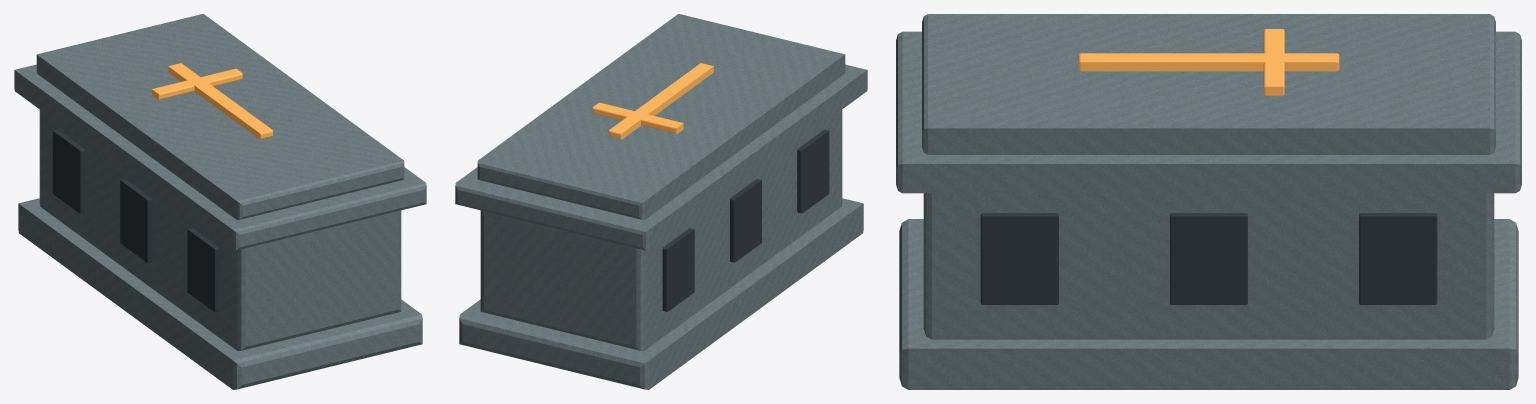
The model's file is hollowwick-halloween-gothic-sarcophagus-a4cfb950__21629.glb.
3 views of the same model, side by side, from view 1: azimuth 30°, elevation 25°; view 2: azimuth 150°, elevation 25°; view 3: azimuth 270°, elevation 25° (orthographic). The views are drawn at different scales.
Visible parts, largest first — view 1: gothic-sarcophagus; view 2: gothic-sarcophagus; view 3: gothic-sarcophagus.
Boxes of the visible parts, left/top/right/bottom form: gothic-sarcophagus: left=14, top=14, right=426, bottom=389; gothic-sarcophagus: left=455, top=14, right=867, bottom=389; gothic-sarcophagus: left=896, top=14, right=1521, bottom=389.
Size of the model in its own units: 0.9601 by 0.905 by 1.92.
Materials: 3 (1 with a texture image).
